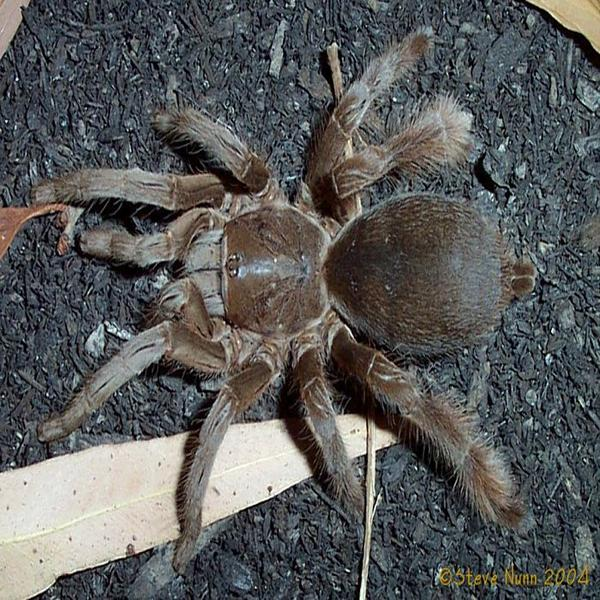Tarantula_Spider: (32, 35, 533, 571)
